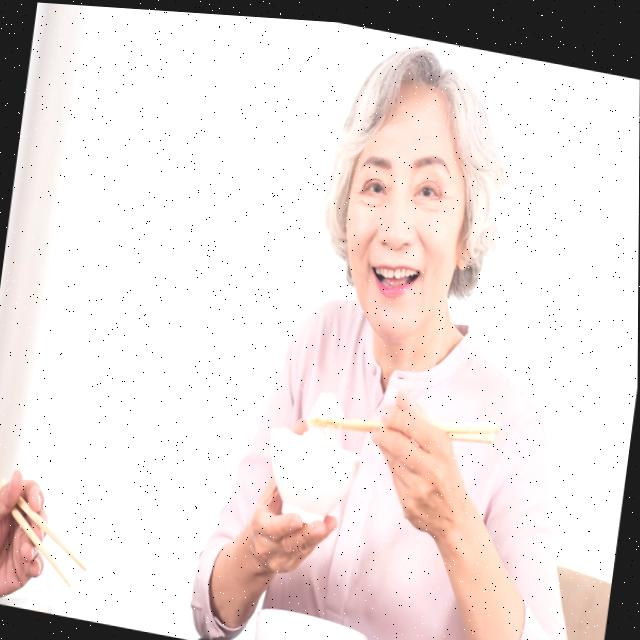eating-person: (125, 7, 640, 640)
